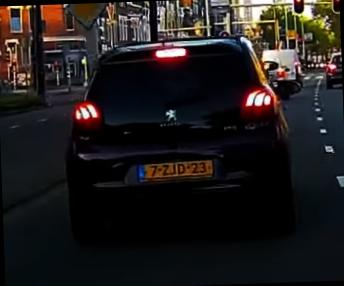license-plate: (135, 158, 214, 183)
